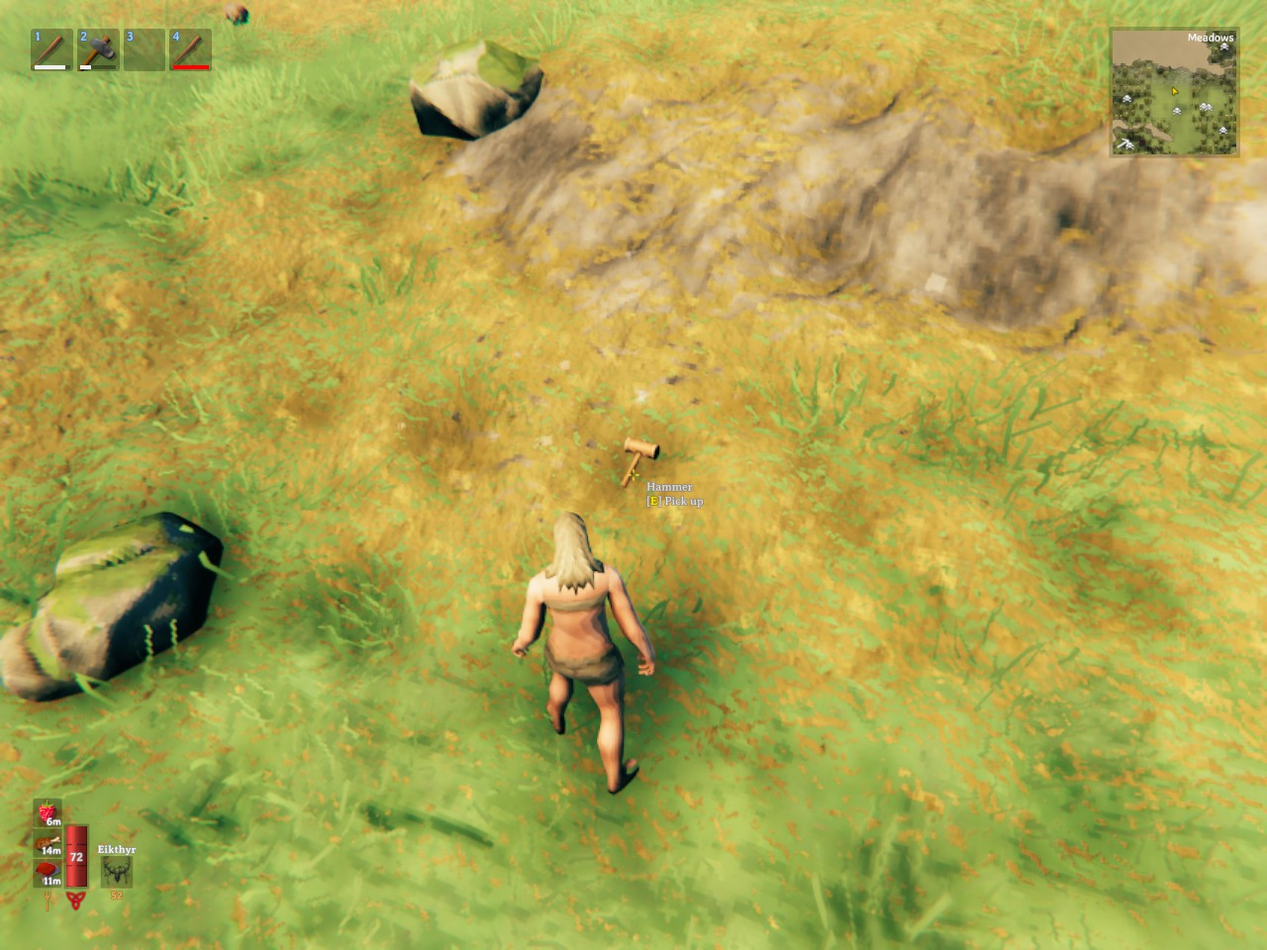Food Indicator: (36, 797, 63, 891)
Hammer: (621, 437, 659, 487)
Health Bar: (63, 820, 90, 891)
Hotbar: (25, 21, 398, 78)
